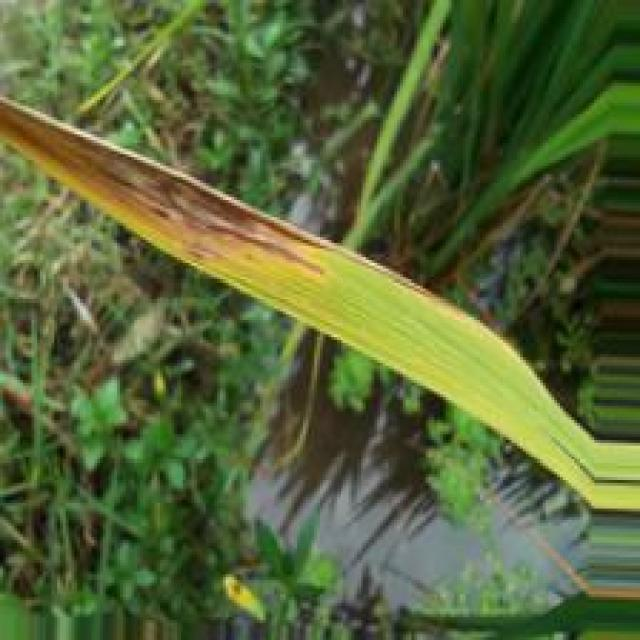Rice False Smut: (0, 97, 383, 281)
